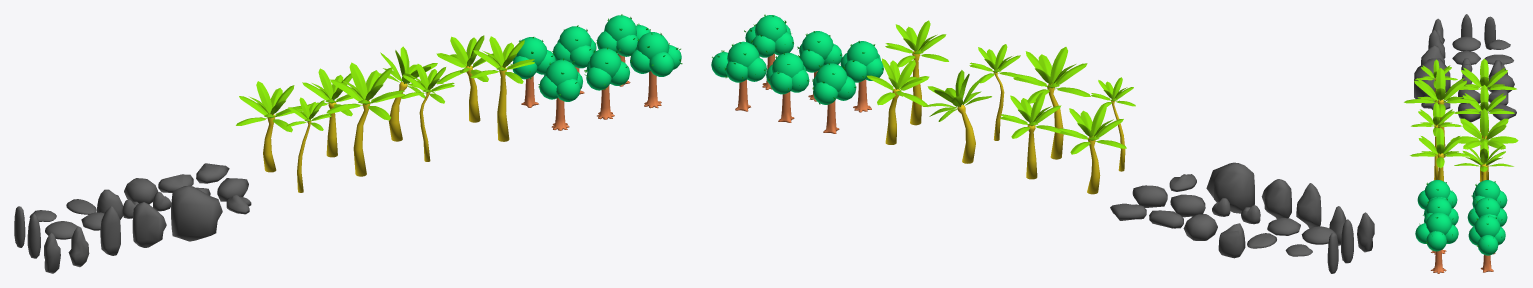
File: props terrain FULL UV 2.fbx
3 views of the same model, side by side, from view 1: azimuth 30°, elevation 25°; view 2: azimuth 150°, elevation 25°; view 3: azimuth 270°, elevation 25° (orthographic). The views are drawn at different scales.
Visible parts, largest first — view 1: rock_020, leaf_palm_007, oak_tree_leaf_005, oak_tree_leaf_002, oak_tree_leaf_004, oak_tree_leaf_006, leaf_palm_001, oak_tree_leaf_002.001, rock_012, leaf_palm_006, oak_tree_leaf_004.001, leaf_palm_008 (+21 smaller); view 2: rock_020, oak_tree_leaf_006, leaf_palm_007, oak_tree_leaf_005, oak_tree_leaf_002.001, oak_tree_leaf_004.001, leaf_palm_001, oak_tree_leaf_002, oak_tree_leaf_004, leaf_palm_008, leaf_palm_003, leaf_palm_006 (+22 smaller); view 3: leaf_palm_004, oak_tree_leaf_005, leaf_palm_007, oak_tree_leaf_006, leaf_palm_006, leaf_palm_001, oak_tree_leaf_002.001, oak_tree_leaf_002, leaf_palm_003, rock_020, leaf_palm_008, oak_tree_leaf_004.001 (+25 smaller).
Boxes of the visible parts, x1,y1,x2,y2 form: rock_020: [171, 185, 222, 241]; leaf_palm_007: [326, 62, 404, 120]; oak_tree_leaf_005: [630, 32, 681, 76]; oak_tree_leaf_002: [539, 59, 582, 101]; oak_tree_leaf_004: [586, 48, 629, 90]; oak_tree_leaf_006: [596, 15, 650, 56]; leaf_palm_001: [236, 81, 302, 132]; oak_tree_leaf_002.001: [552, 26, 596, 68]; rock_012: [132, 202, 166, 247]; leaf_palm_006: [470, 36, 534, 83]; oak_tree_leaf_004.001: [512, 37, 555, 79]; leaf_palm_008: [436, 35, 494, 84]; rock_020: [1206, 162, 1254, 213]; oak_tree_leaf_006: [711, 41, 766, 82]; leaf_palm_007: [1013, 47, 1090, 103]; oak_tree_leaf_005: [745, 15, 793, 57]; oak_tree_leaf_002.001: [766, 52, 809, 94]; oak_tree_leaf_004.001: [813, 63, 856, 104]; leaf_palm_001: [1059, 104, 1126, 154]; oak_tree_leaf_002: [840, 41, 883, 82]; oak_tree_leaf_004: [799, 31, 842, 72]; leaf_palm_008: [867, 58, 929, 106]; leaf_palm_003: [1000, 91, 1061, 138]; leaf_palm_006: [885, 20, 948, 67]; leaf_palm_004: [1450, 108, 1518, 159]; oak_tree_leaf_005: [1415, 212, 1458, 251]; leaf_palm_007: [1404, 68, 1477, 117]; oak_tree_leaf_006: [1468, 215, 1505, 255]; leaf_palm_006: [1410, 127, 1470, 168]; leaf_palm_001: [1459, 58, 1516, 95]; oak_tree_leaf_002.001: [1467, 197, 1507, 226]; oak_tree_leaf_002: [1417, 179, 1457, 209]; leaf_palm_003: [1454, 85, 1514, 113]; rock_020: [1414, 58, 1450, 98]; leaf_palm_008: [1454, 141, 1513, 171]; oak_tree_leaf_004.001: [1472, 180, 1507, 208].
Bounding box in the file's own units: 13577 × 2486 × 2636.
